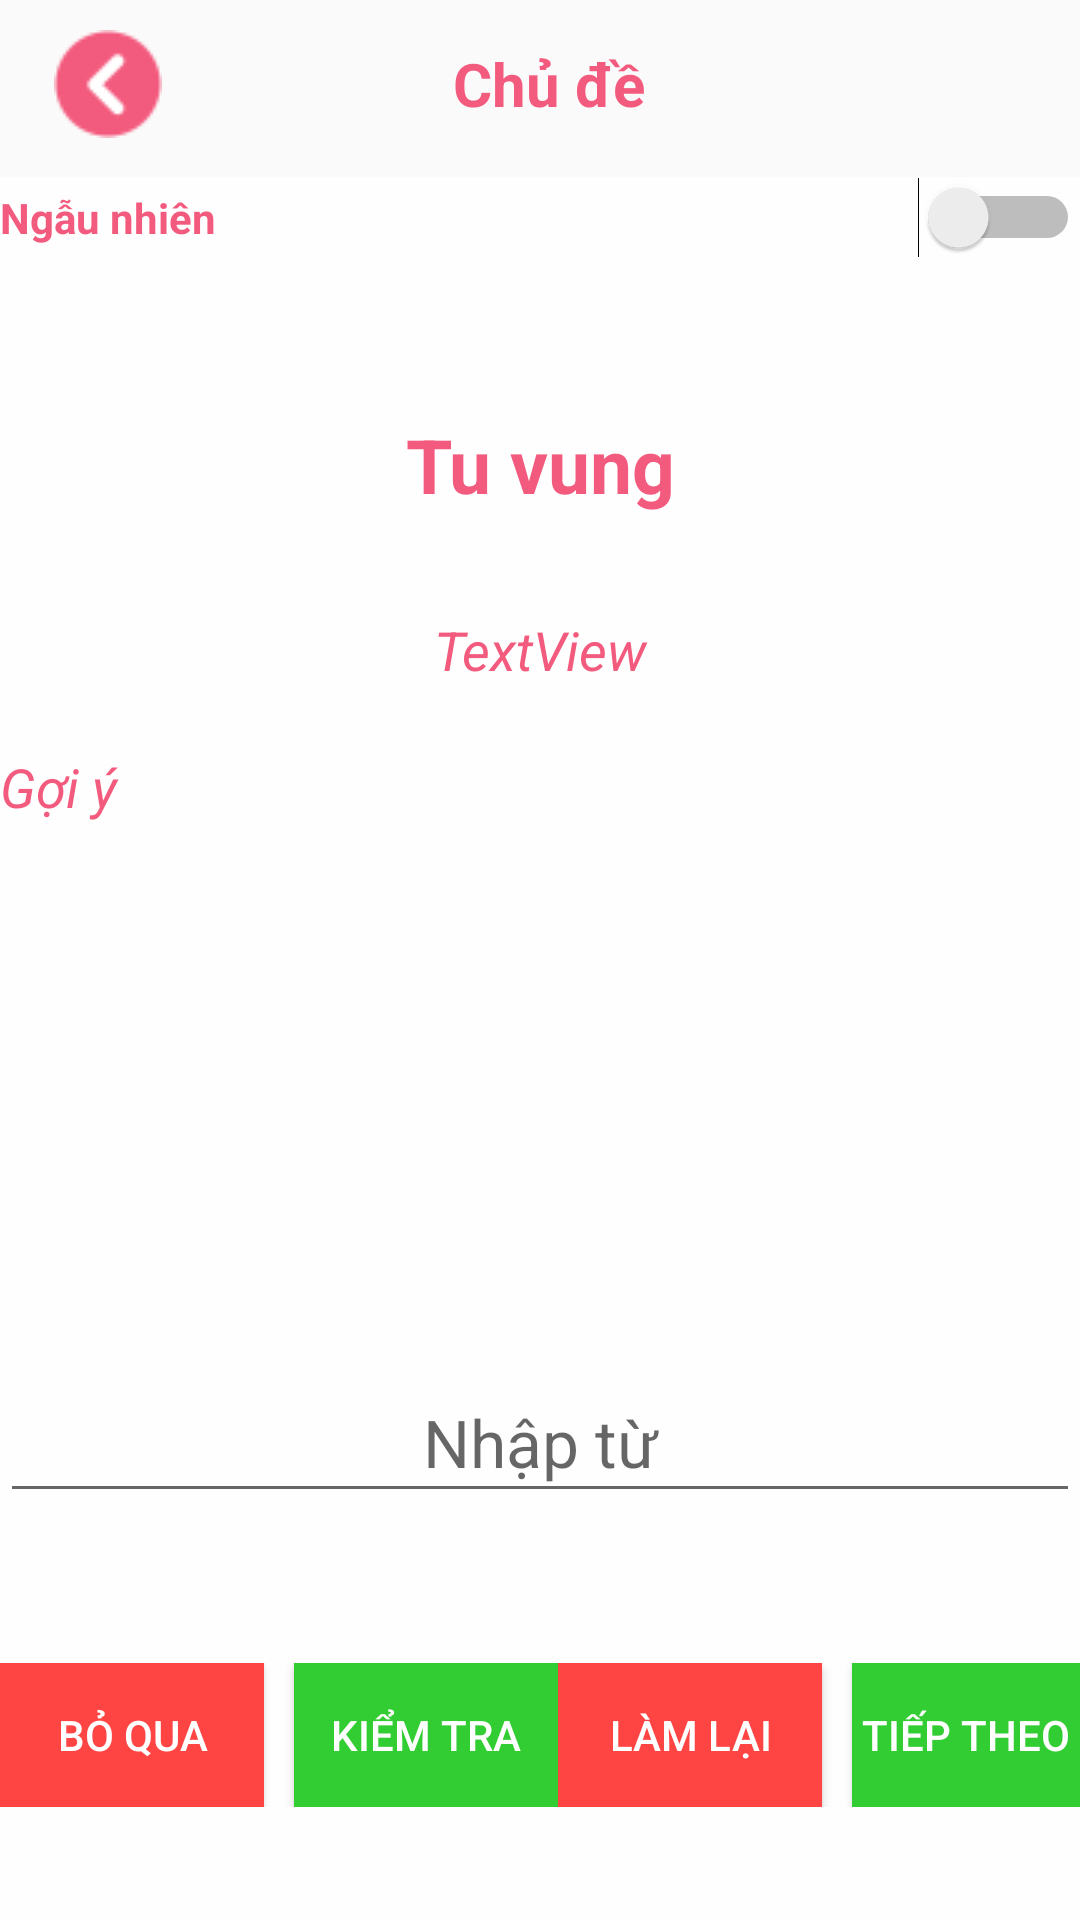

Icon bounding boxes for this 1080w x 1920h phone screenshot, format bbox=[x1, y1, x2, y2]:
back: bbox=[54, 30, 162, 138]
